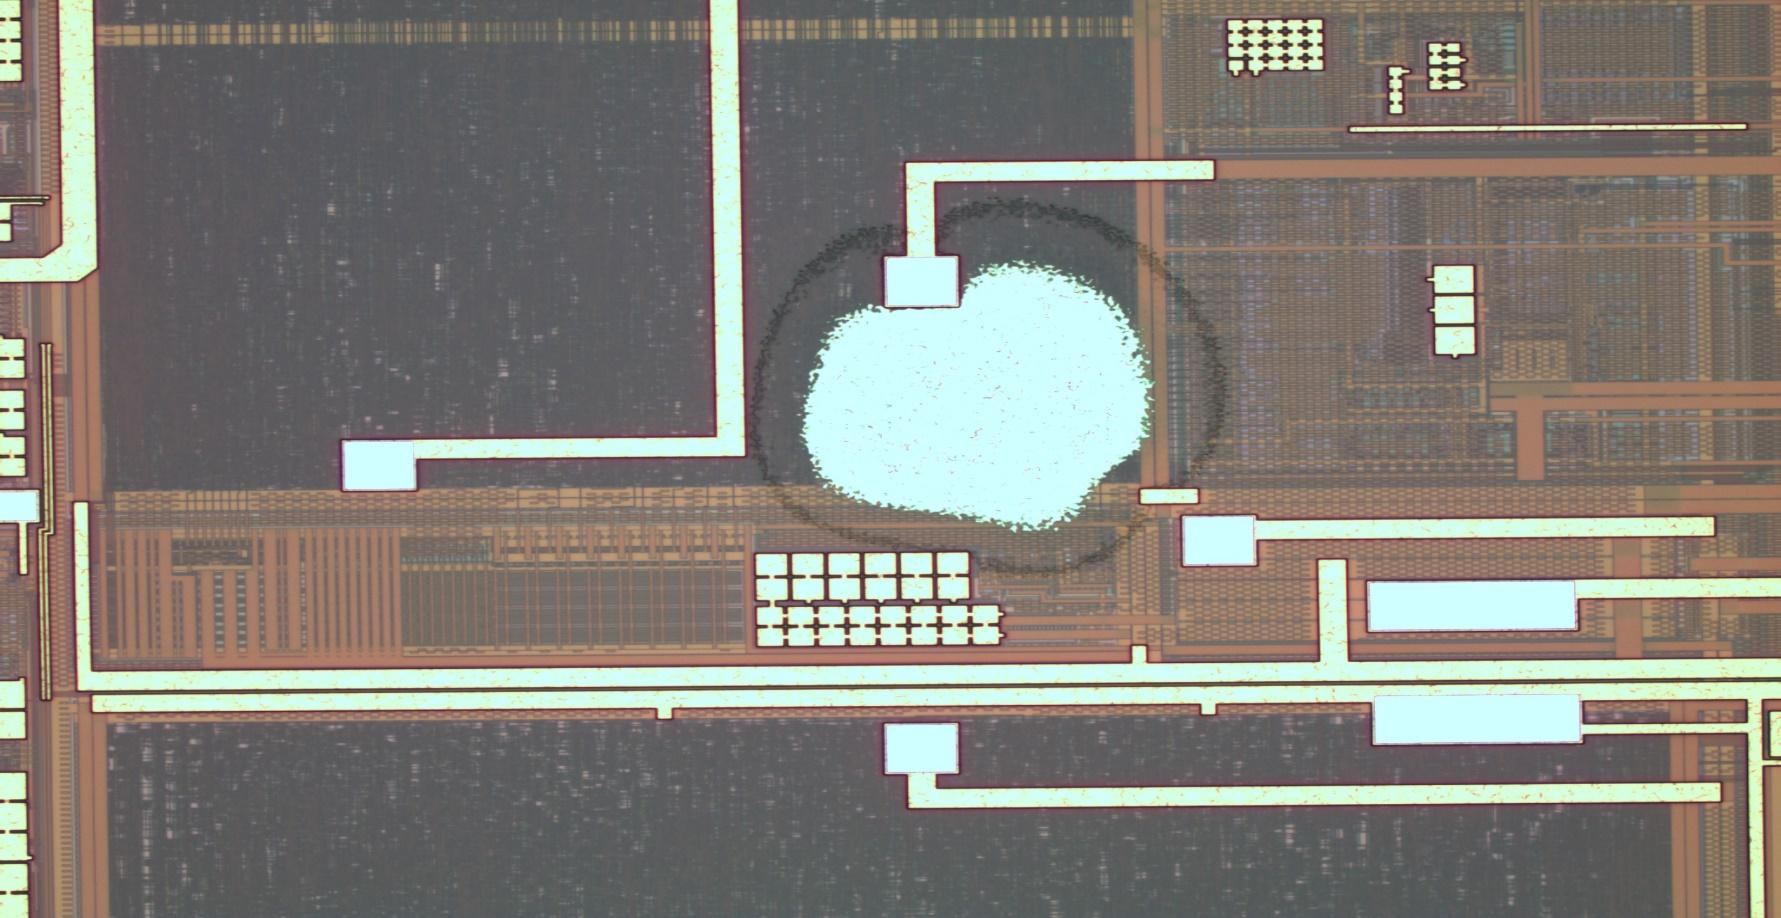BLOCK ETCH: (738, 196, 1237, 581)
